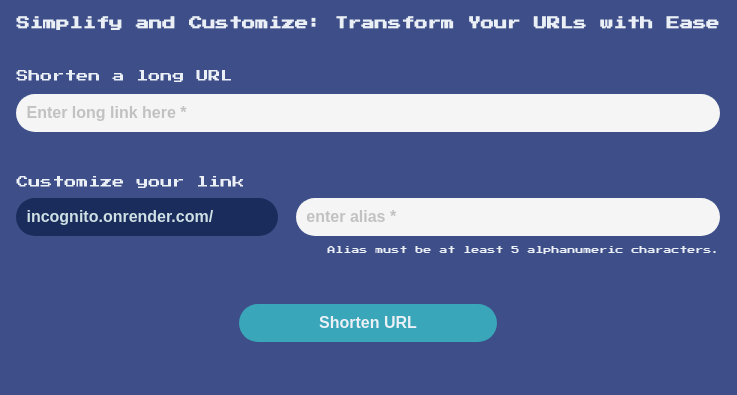
Main Component › should render the main form and show error when invalid URL is entered
Type "invalid-url" into the field with placeholder "Enter long link here *" at (368, 113), box left=16, top=94, right=720, bottom=132
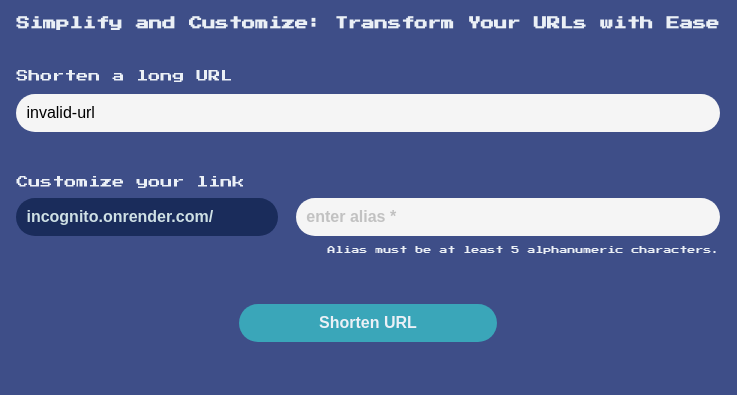
Type "testcall" into the field with placeholder "Enter alias *" at (508, 217), box left=296, top=198, right=720, bottom=236
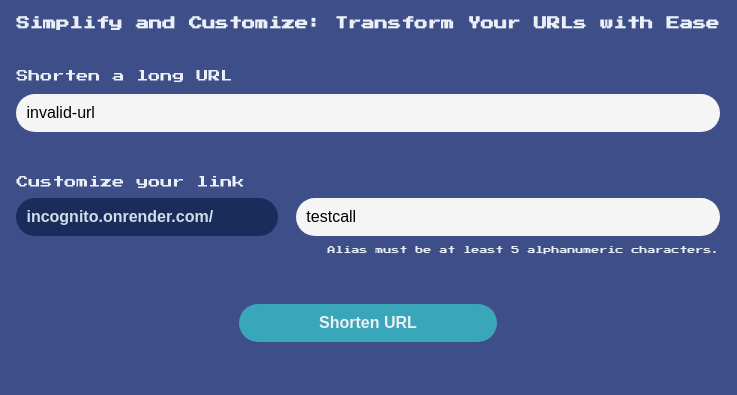
Click the button "Shorten URL" at (368, 323), box left=239, top=304, right=497, bottom=342
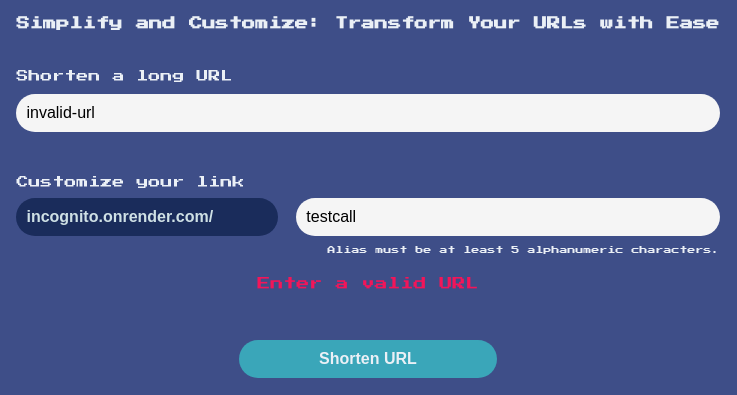
Expected: the text with test id "err-message" reads "Enter a valid URL", left=258, top=277, right=478, bottom=290
